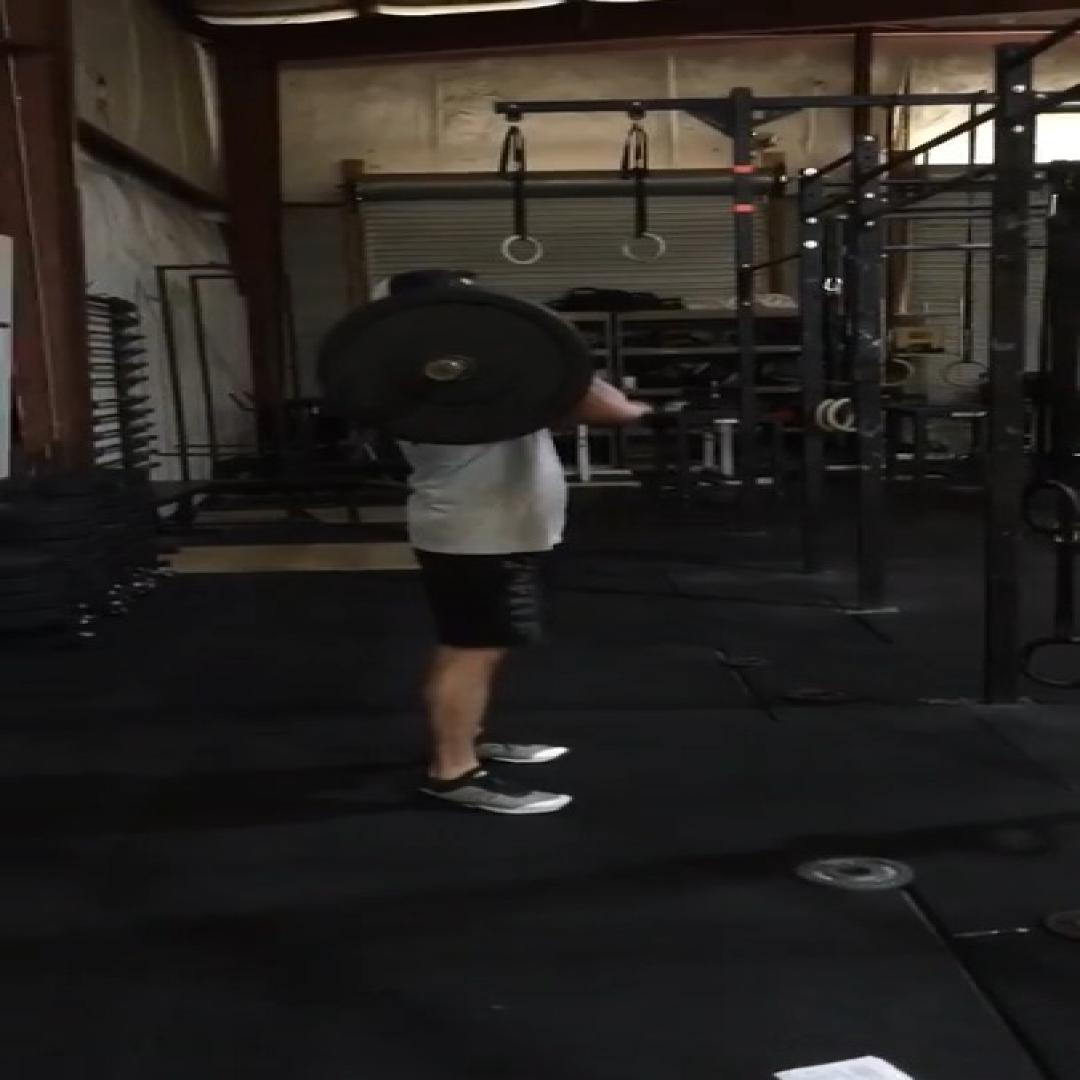Bar: (423, 359, 465, 381)
Barbell: (314, 288, 593, 446)
